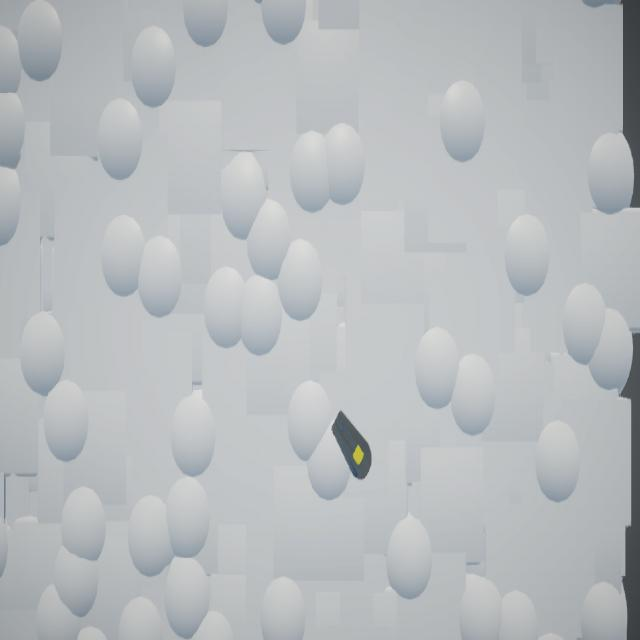handle_folk: (332, 411, 373, 482)
